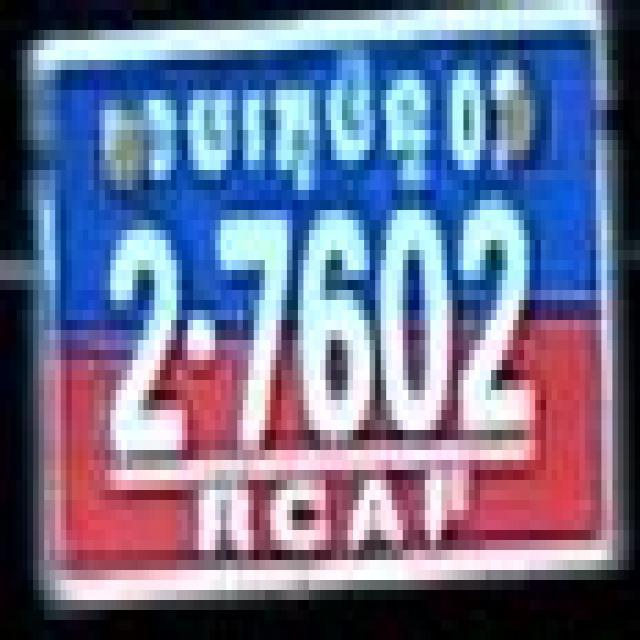RCAF: (100, 50, 436, 201)
